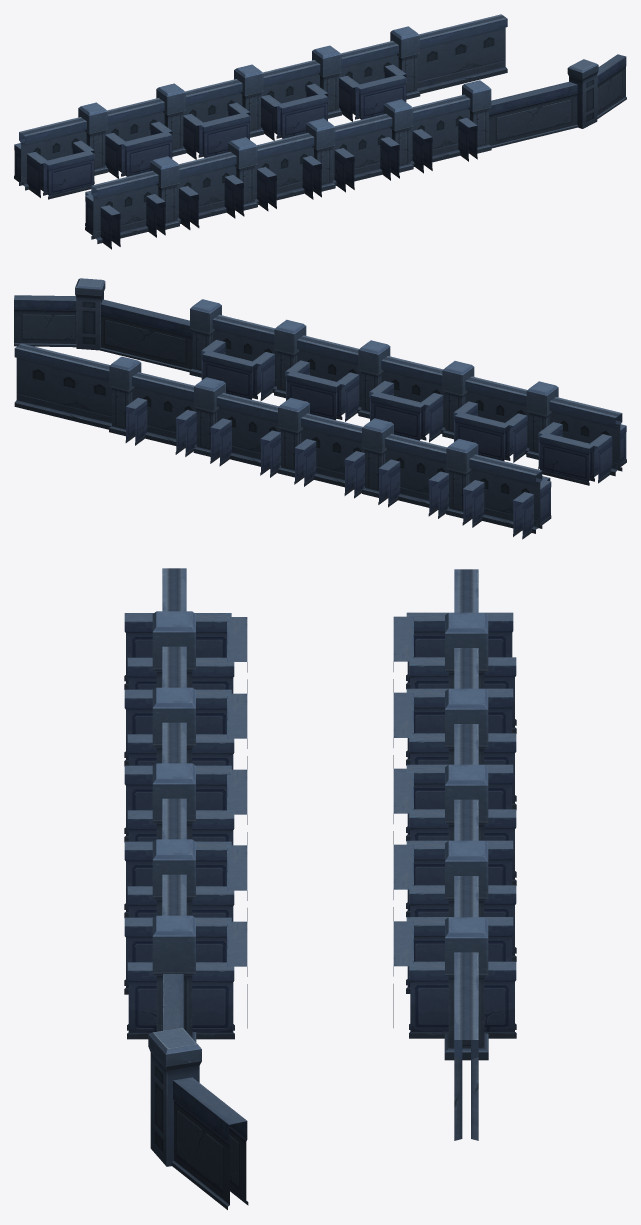
The model's file is Area_12_3.fbx.
3 renders of one model, top to bottom at view 1: azimuth 30°, elevation 25°; view 2: azimuth 150°, elevation 25°; view 3: azimuth 270°, elevation 25°, orthographic. The views are drawn at different scales.
Visible parts, largest first — view 1: Area_12_3; view 2: Area_12_3; view 3: Area_12_3.
Part boxes in pixels (<box>): Area_12_3: <box>14,14,626,249</box>; Area_12_3: <box>14,278,626,539</box>; Area_12_3: <box>124,568,516,1209</box>.
Bounding box in the file's own units: 6288 × 702 × 1956.
